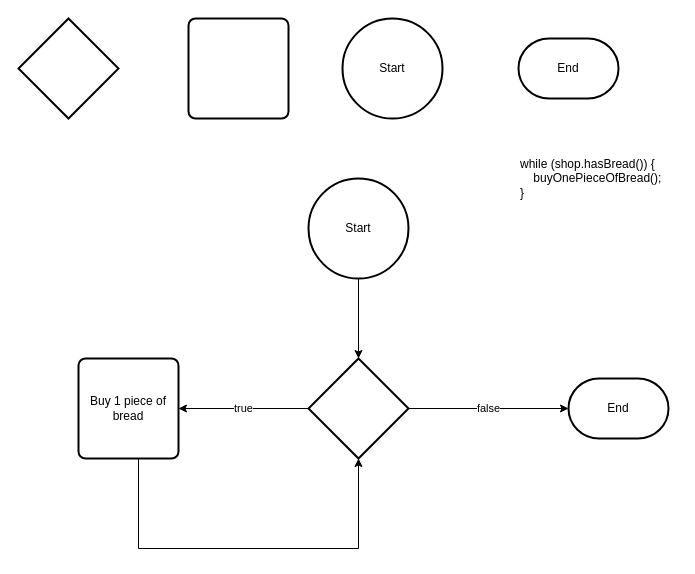
Some shapes in this 695 by 574 pixel diagram are drawn without their labels. Here are the shapes that lost their labels. From the top down, the centre of each, then its label:
At [68,68]: "Decision".
At [238,68]: "Process".
At [358,408]: "Shop has bread".
